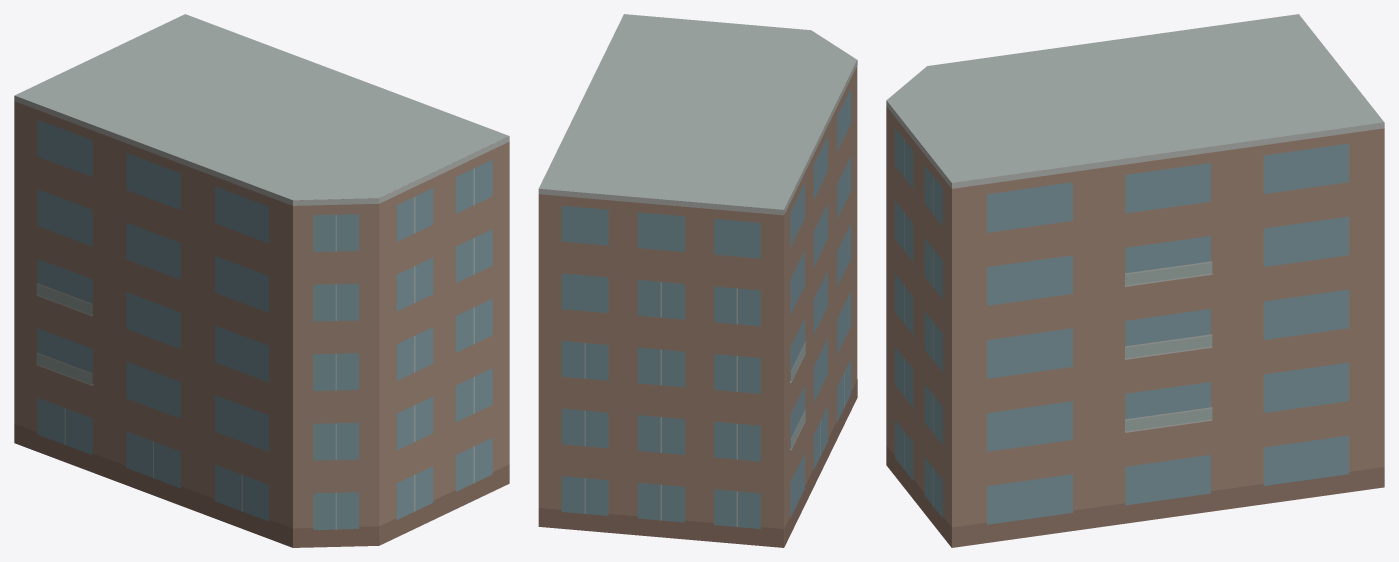
File: survey-upis-32962924.glb
3 views of the same model, side by side, from view 1: azimuth 30°, elevation 25°; view 2: azimuth 150°, elevation 25°; view 3: azimuth 270°, elevation 25° (orthographic). The views are drawn at different scales.
Visible parts, largest first — view 1: survey-upis-32962924.tmp; view 2: survey-upis-32962924.tmp; view 3: survey-upis-32962924.tmp.
Boxes of the visible parts, <box> form: survey-upis-32962924.tmp: <box>14,14,509,547</box>; survey-upis-32962924.tmp: <box>538,14,857,547</box>; survey-upis-32962924.tmp: <box>886,14,1384,547</box>.
Bounding box in the file's own units: 15.01 × 15.1 × 18.69.
